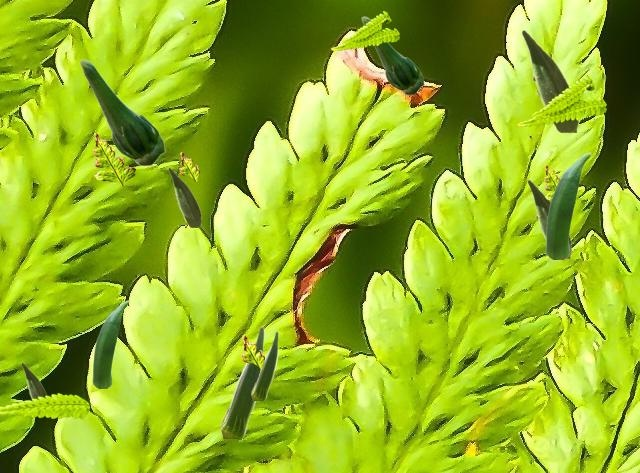okra: (79, 59, 164, 165), (521, 29, 577, 131), (361, 16, 423, 94), (220, 326, 263, 437), (545, 152, 590, 258), (527, 179, 570, 257), (92, 300, 128, 387), (168, 167, 200, 226), (251, 331, 277, 399), (21, 362, 47, 397)
